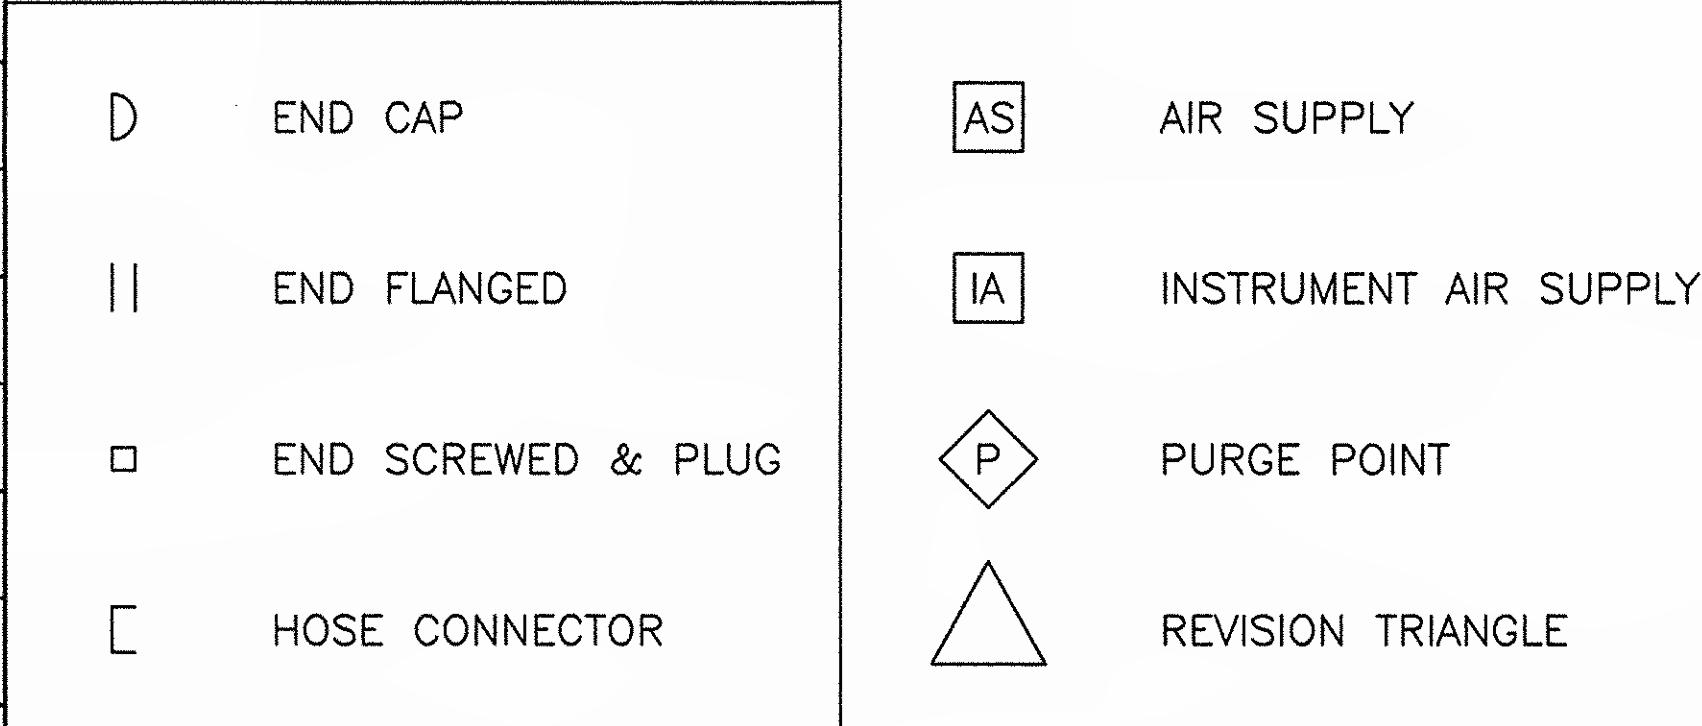AIR SUPPLY: (948, 75, 1030, 157)
END CAP: (106, 88, 142, 143)
END FLANGED: (105, 255, 142, 319)
END SCREWED AND PLUG: (107, 438, 141, 477)
HOSE CONNECTOR: (105, 598, 147, 657)
INSTRUMENT AIR SUPPLY: (947, 245, 1032, 332)
PURGE POINT: (931, 405, 1045, 512)
REVISION TRIANGLE: (924, 557, 1054, 672)
